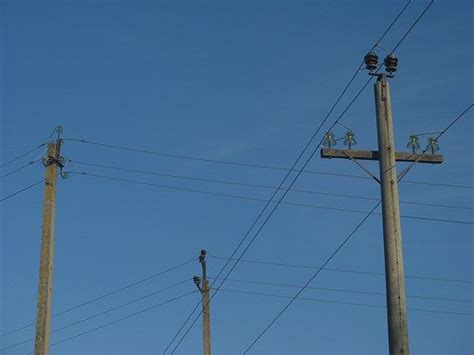pole: (22, 129, 88, 355)
